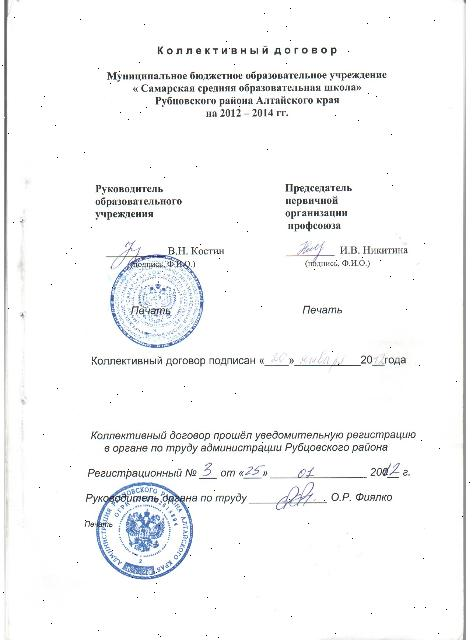stamp: (95, 484, 193, 580), (109, 254, 205, 348)
